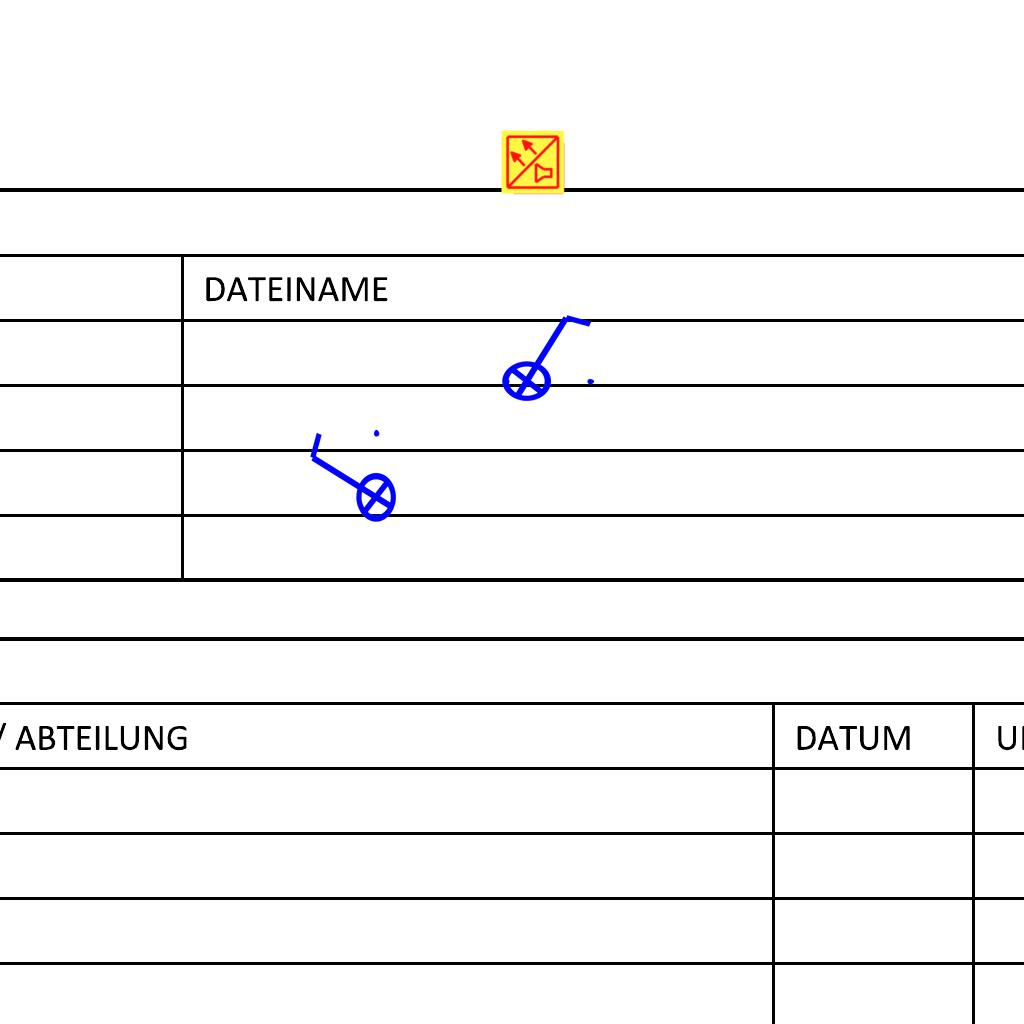Ausschalter_beleuchtet: (488, 307, 600, 403), (302, 424, 398, 536)
OKW_Multisensormelder_(Kombination_optischer_Rauch-Kahlenmonoxid_Waerme-Melder): (500, 129, 566, 195)
